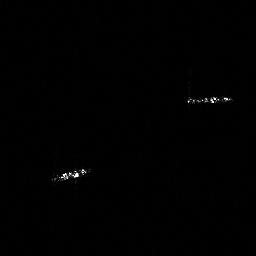ship: (51, 165, 91, 183), (183, 93, 233, 105)
